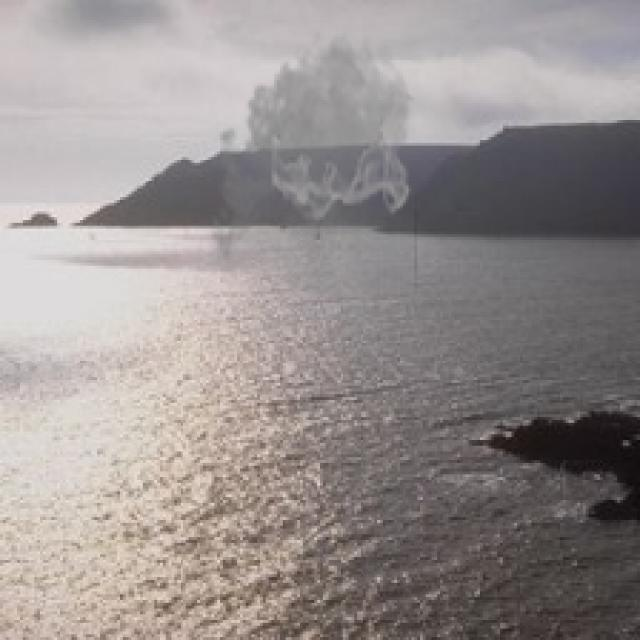smoke: (206, 23, 417, 294)
